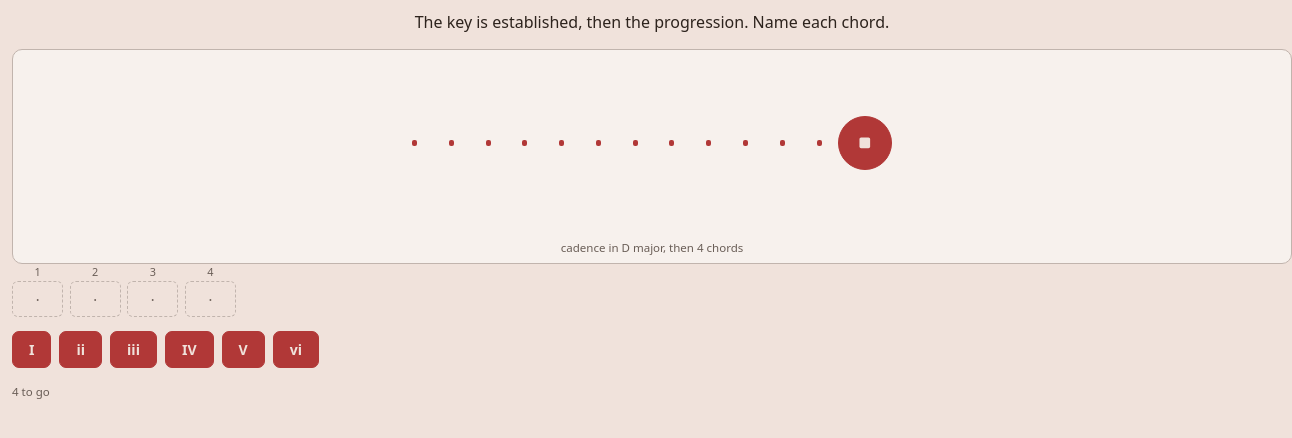
answering › shows what was said struck through beside what was right, where they differ
The image size is (1292, 438).
Click the button "I": [32, 350] box [12, 331, 52, 368]
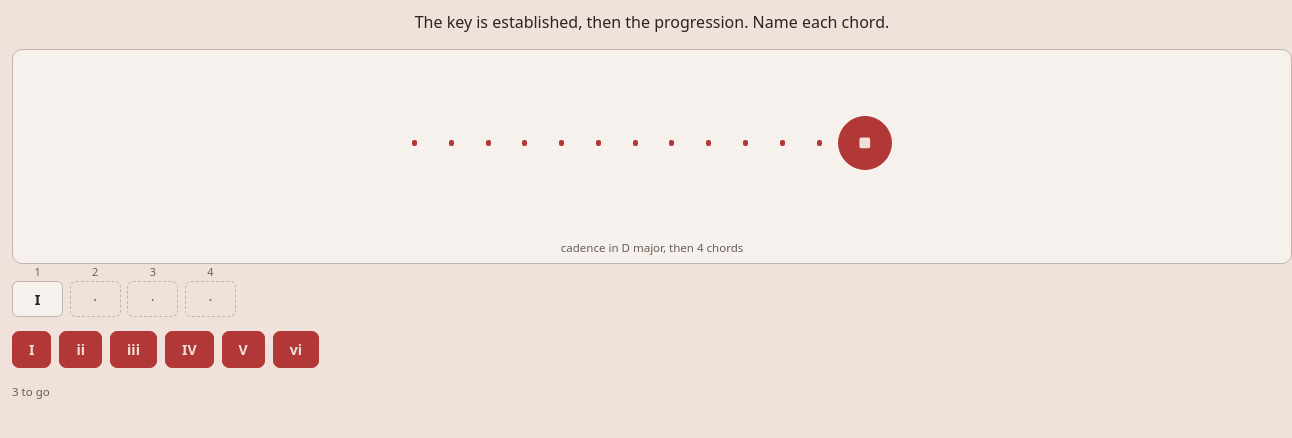
Click the button "V": [243, 350] box [222, 331, 265, 368]
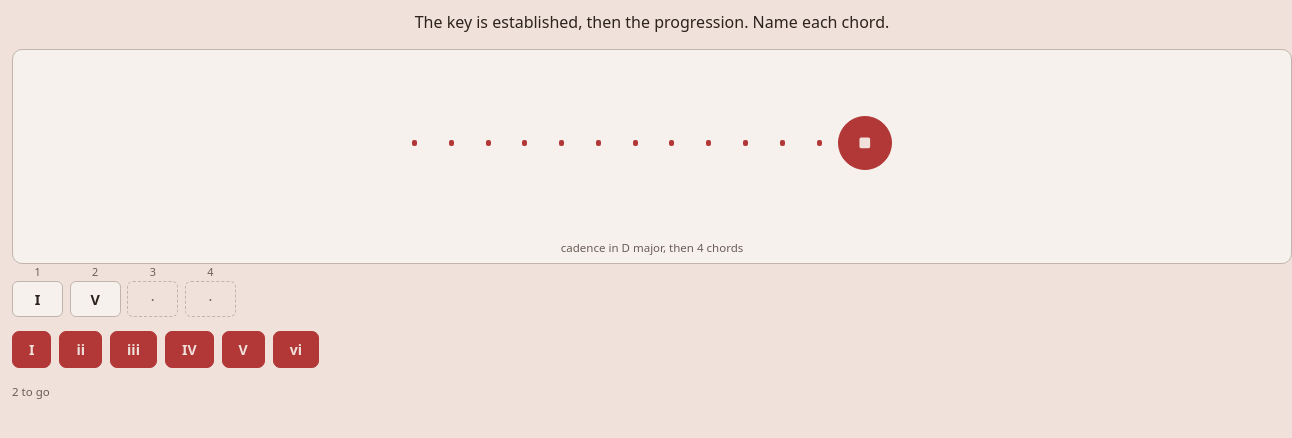
Click the 2nd button "V": [243, 350] box [222, 331, 265, 368]
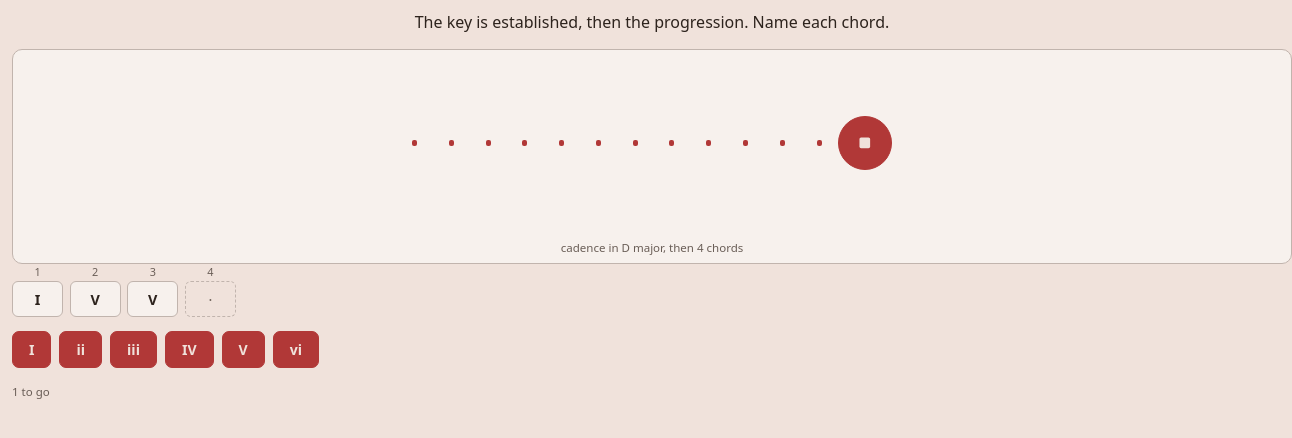
Click the 2nd button "I": [32, 350] box [12, 331, 52, 368]
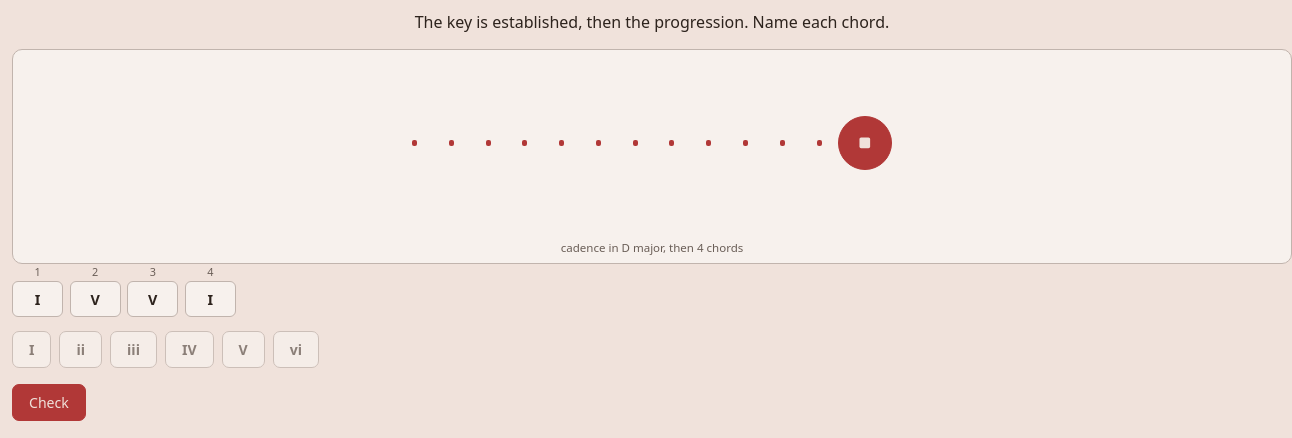
Click the button "Check": [49, 403] box [12, 384, 86, 421]
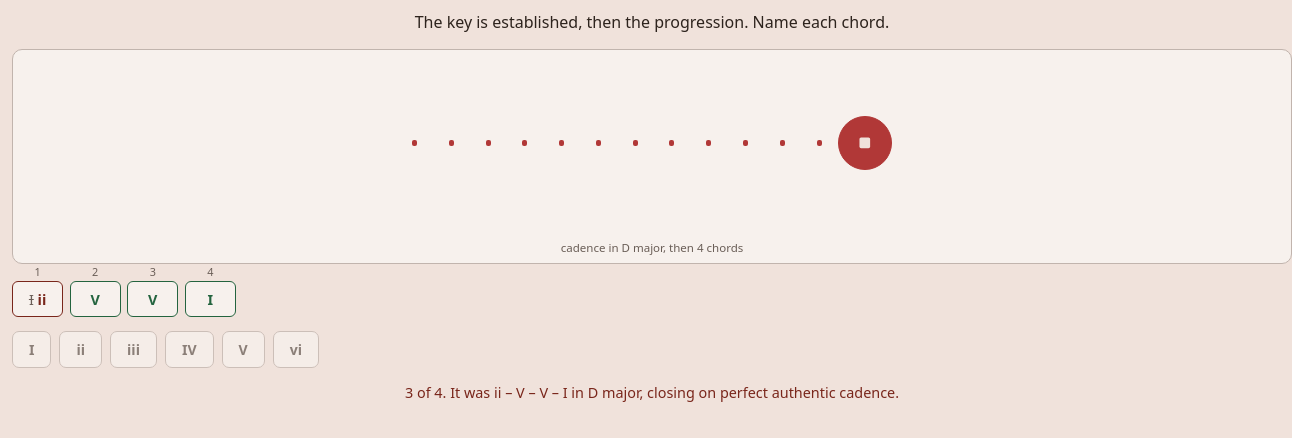
Expected: the 1st button "V" is shown, [70, 281, 121, 317]
Expected: the text "I" is shown, [29, 290, 34, 309]
Expected: the button "I ii" is shown, [12, 281, 63, 317]
